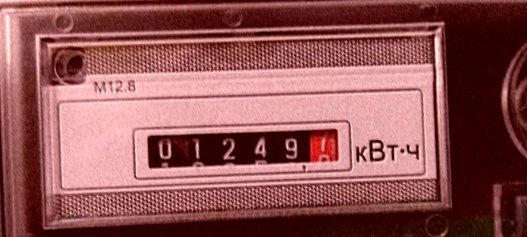0: (153, 135, 173, 163)
1: (185, 134, 202, 162)
2: (216, 136, 236, 164)
4: (248, 133, 267, 160)
7: (312, 127, 330, 154)
9: (278, 135, 298, 163)
screen: (125, 101, 356, 201)
